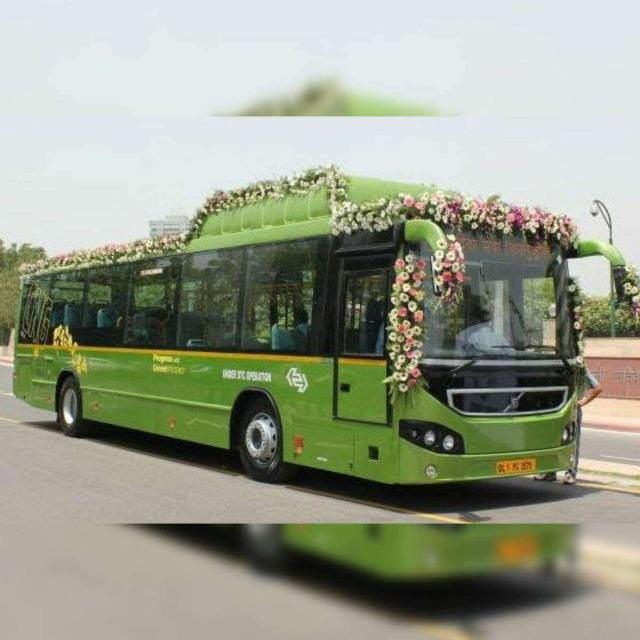bus: (14, 168, 625, 483)
